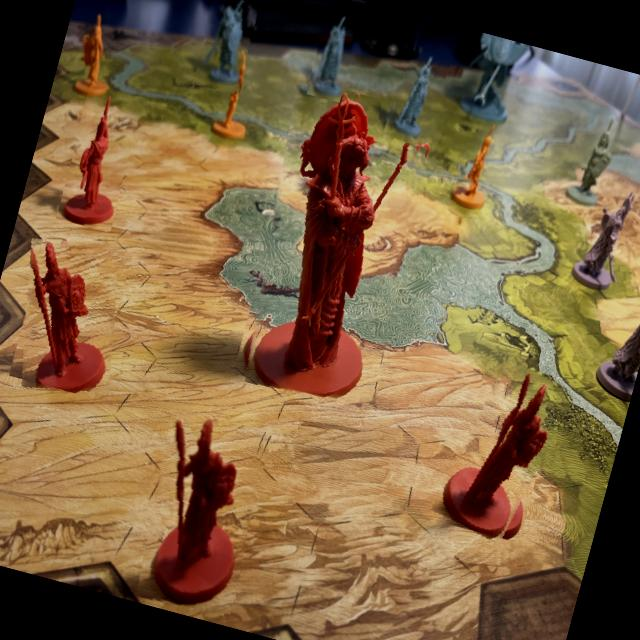amon: (225, 76, 446, 412)
amon_follower: (126, 406, 276, 618), (435, 353, 571, 548), (1, 226, 140, 403), (54, 84, 144, 232)
isis_follower: (383, 44, 450, 148), (190, 0, 261, 95), (305, 12, 361, 102)
